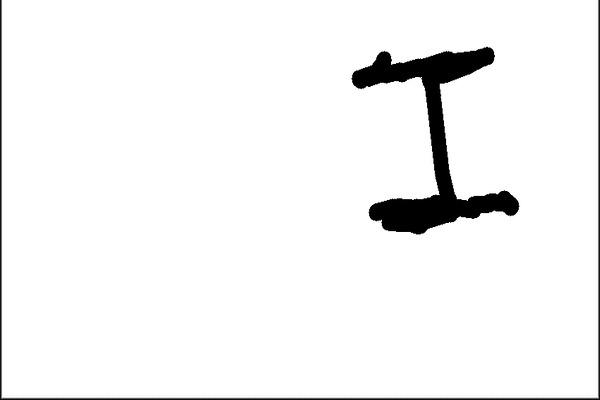i: (345, 36, 529, 230)
